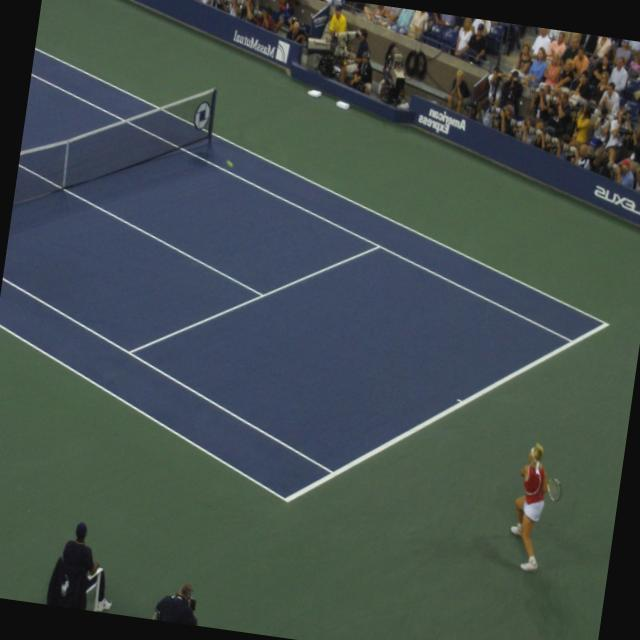Tennis Ball: (228, 158, 235, 168)
